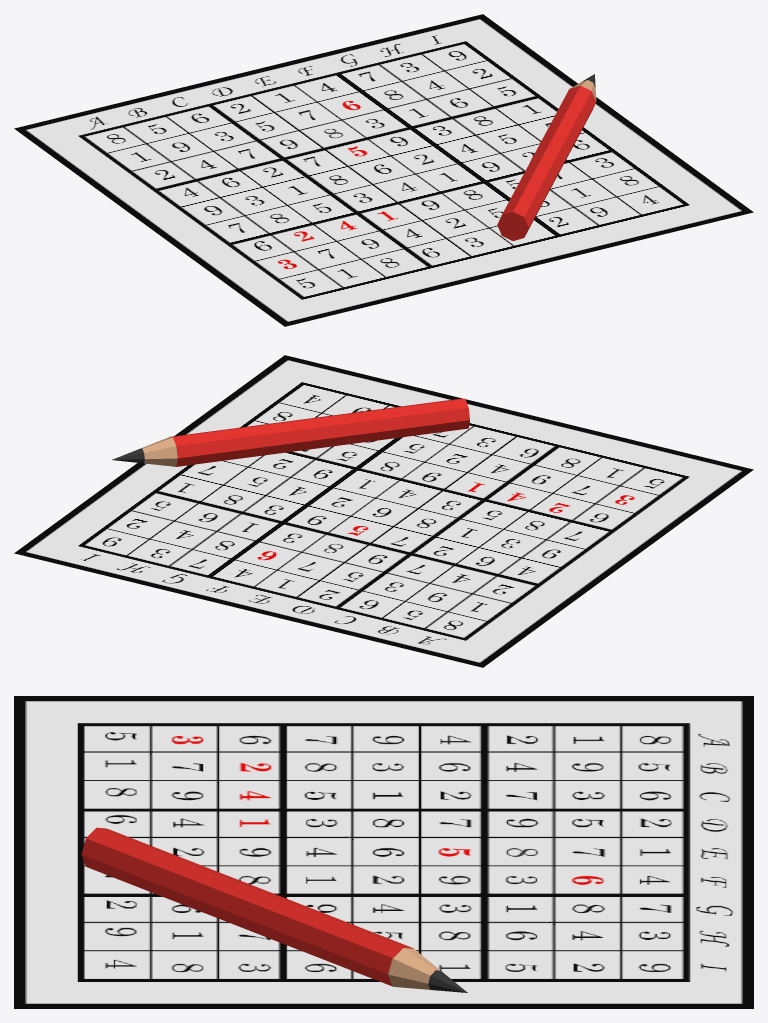
File: Sudoku.fbx
3 renders of one model, top to bottom at view 1: azimuth 30°, elevation 25°; view 2: azimuth 150°, elevation 25°; view 3: azimuth 270°, elevation 25°, orthographic. The views are drawn at different scales.
Visible parts, largest first — view 1: Sudoku, Pencil; view 2: Sudoku, Pencil; view 3: Sudoku, Pencil.
Part boxes in pixels (left/top/right/bottom): Sudoku: left=14, top=14, right=753, bottom=326; Pencil: left=497, top=74, right=596, bottom=240; Sudoku: left=14, top=355, right=753, bottom=667; Pencil: left=112, top=398, right=469, bottom=466; Sudoku: left=14, top=696, right=753, bottom=1008; Pencil: left=81, top=827, right=467, bottom=992.
Bounding box in the file's own units: 203 × 12.17 × 200.
